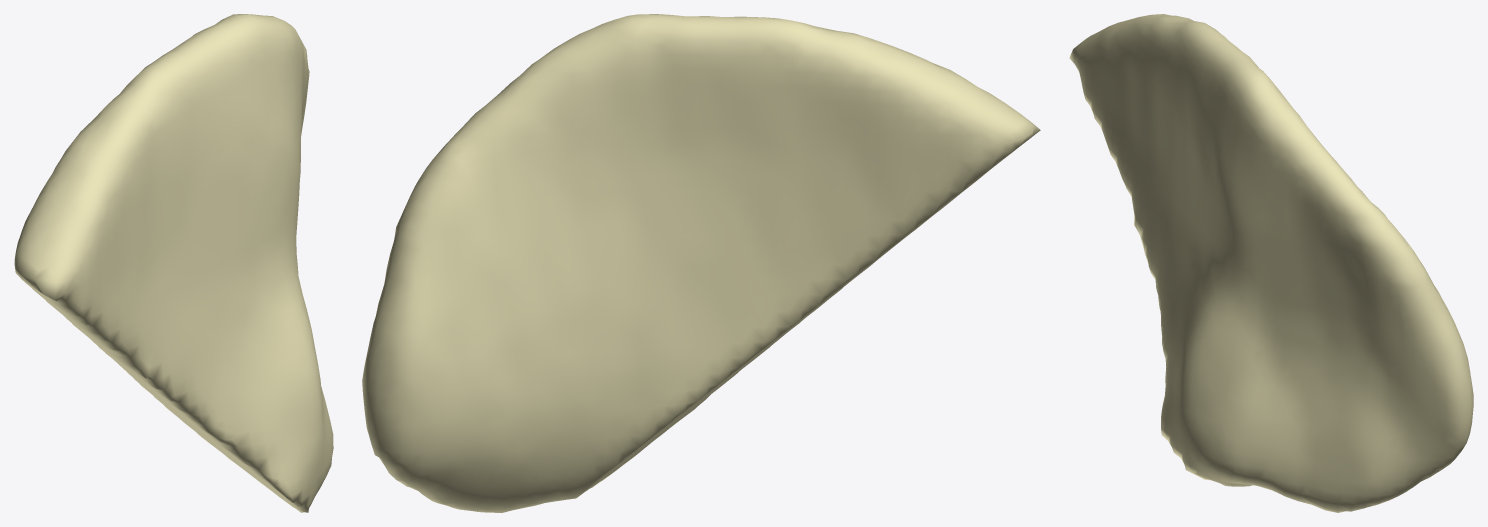
File: Pat2_Mav_RightIliumUpper.fbx
3 views of the same model, side by side, from view 1: azimuth 30°, elevation 25°; view 2: azimuth 150°, elevation 25°; view 3: azimuth 270°, elevation 25° (orthographic). The views are drawn at different scales.
Visible parts, largest first — view 1: sm_RightIlium_UpperPart; view 2: sm_RightIlium_UpperPart; view 3: sm_RightIlium_UpperPart.
Part boxes in pixels (bbox=[...]): sm_RightIlium_UpperPart: bbox=[14, 14, 333, 512]; sm_RightIlium_UpperPart: bbox=[362, 14, 1040, 512]; sm_RightIlium_UpperPart: bbox=[1069, 14, 1473, 512].
Bounding box in the file's own units: 32.93 × 33.07 × 30.06.
